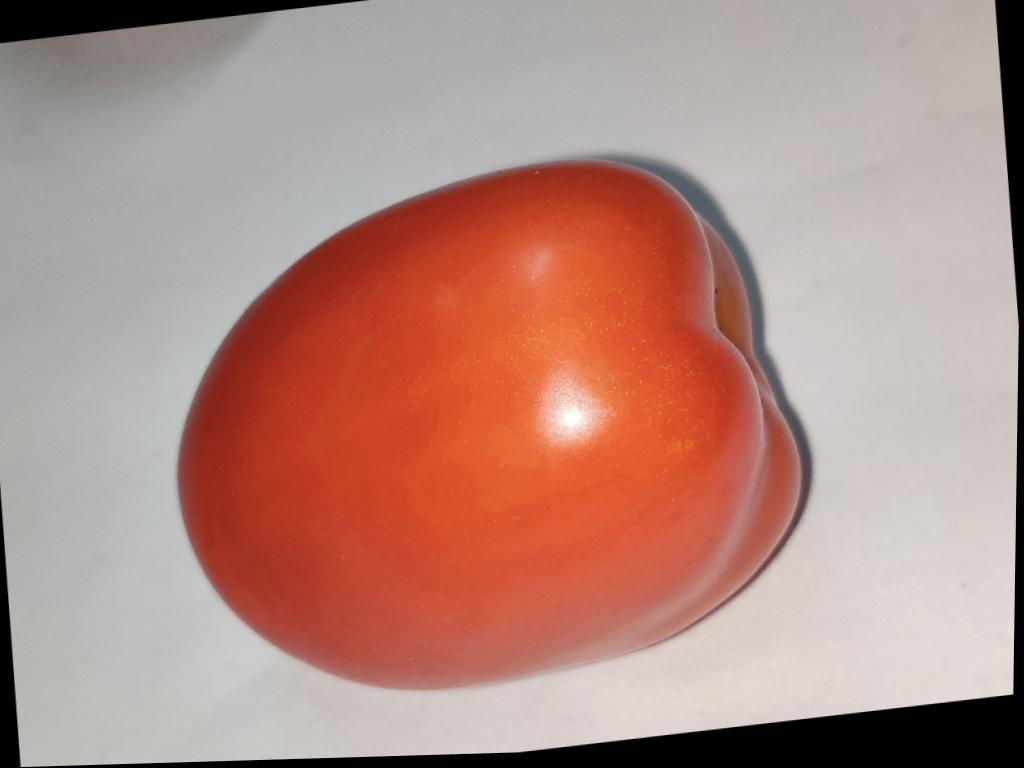tomato: (179, 162, 800, 689)
